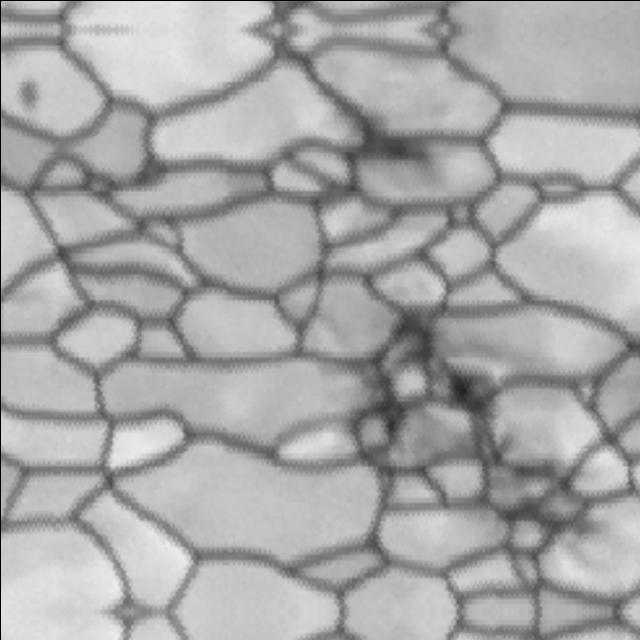good_void: (337, 99, 426, 182), (434, 362, 509, 420), (8, 75, 47, 116)
